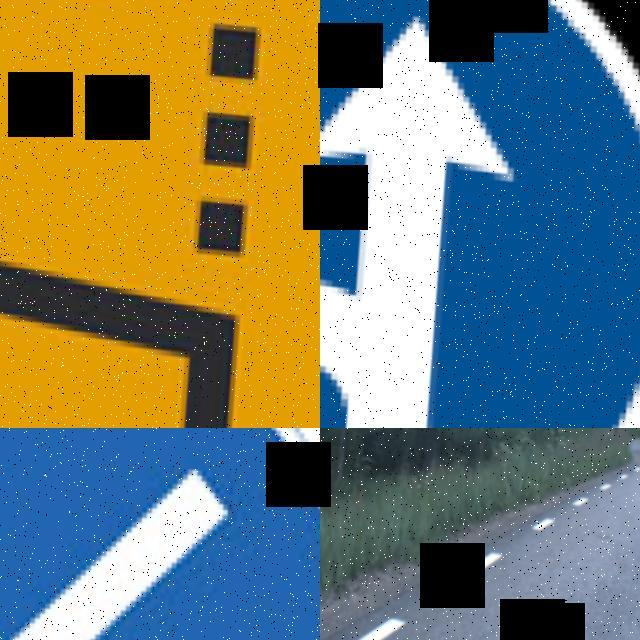84: (0, 0, 320, 428)
93: (0, 428, 320, 640)
Direction to be followed: (320, 0, 640, 428)
